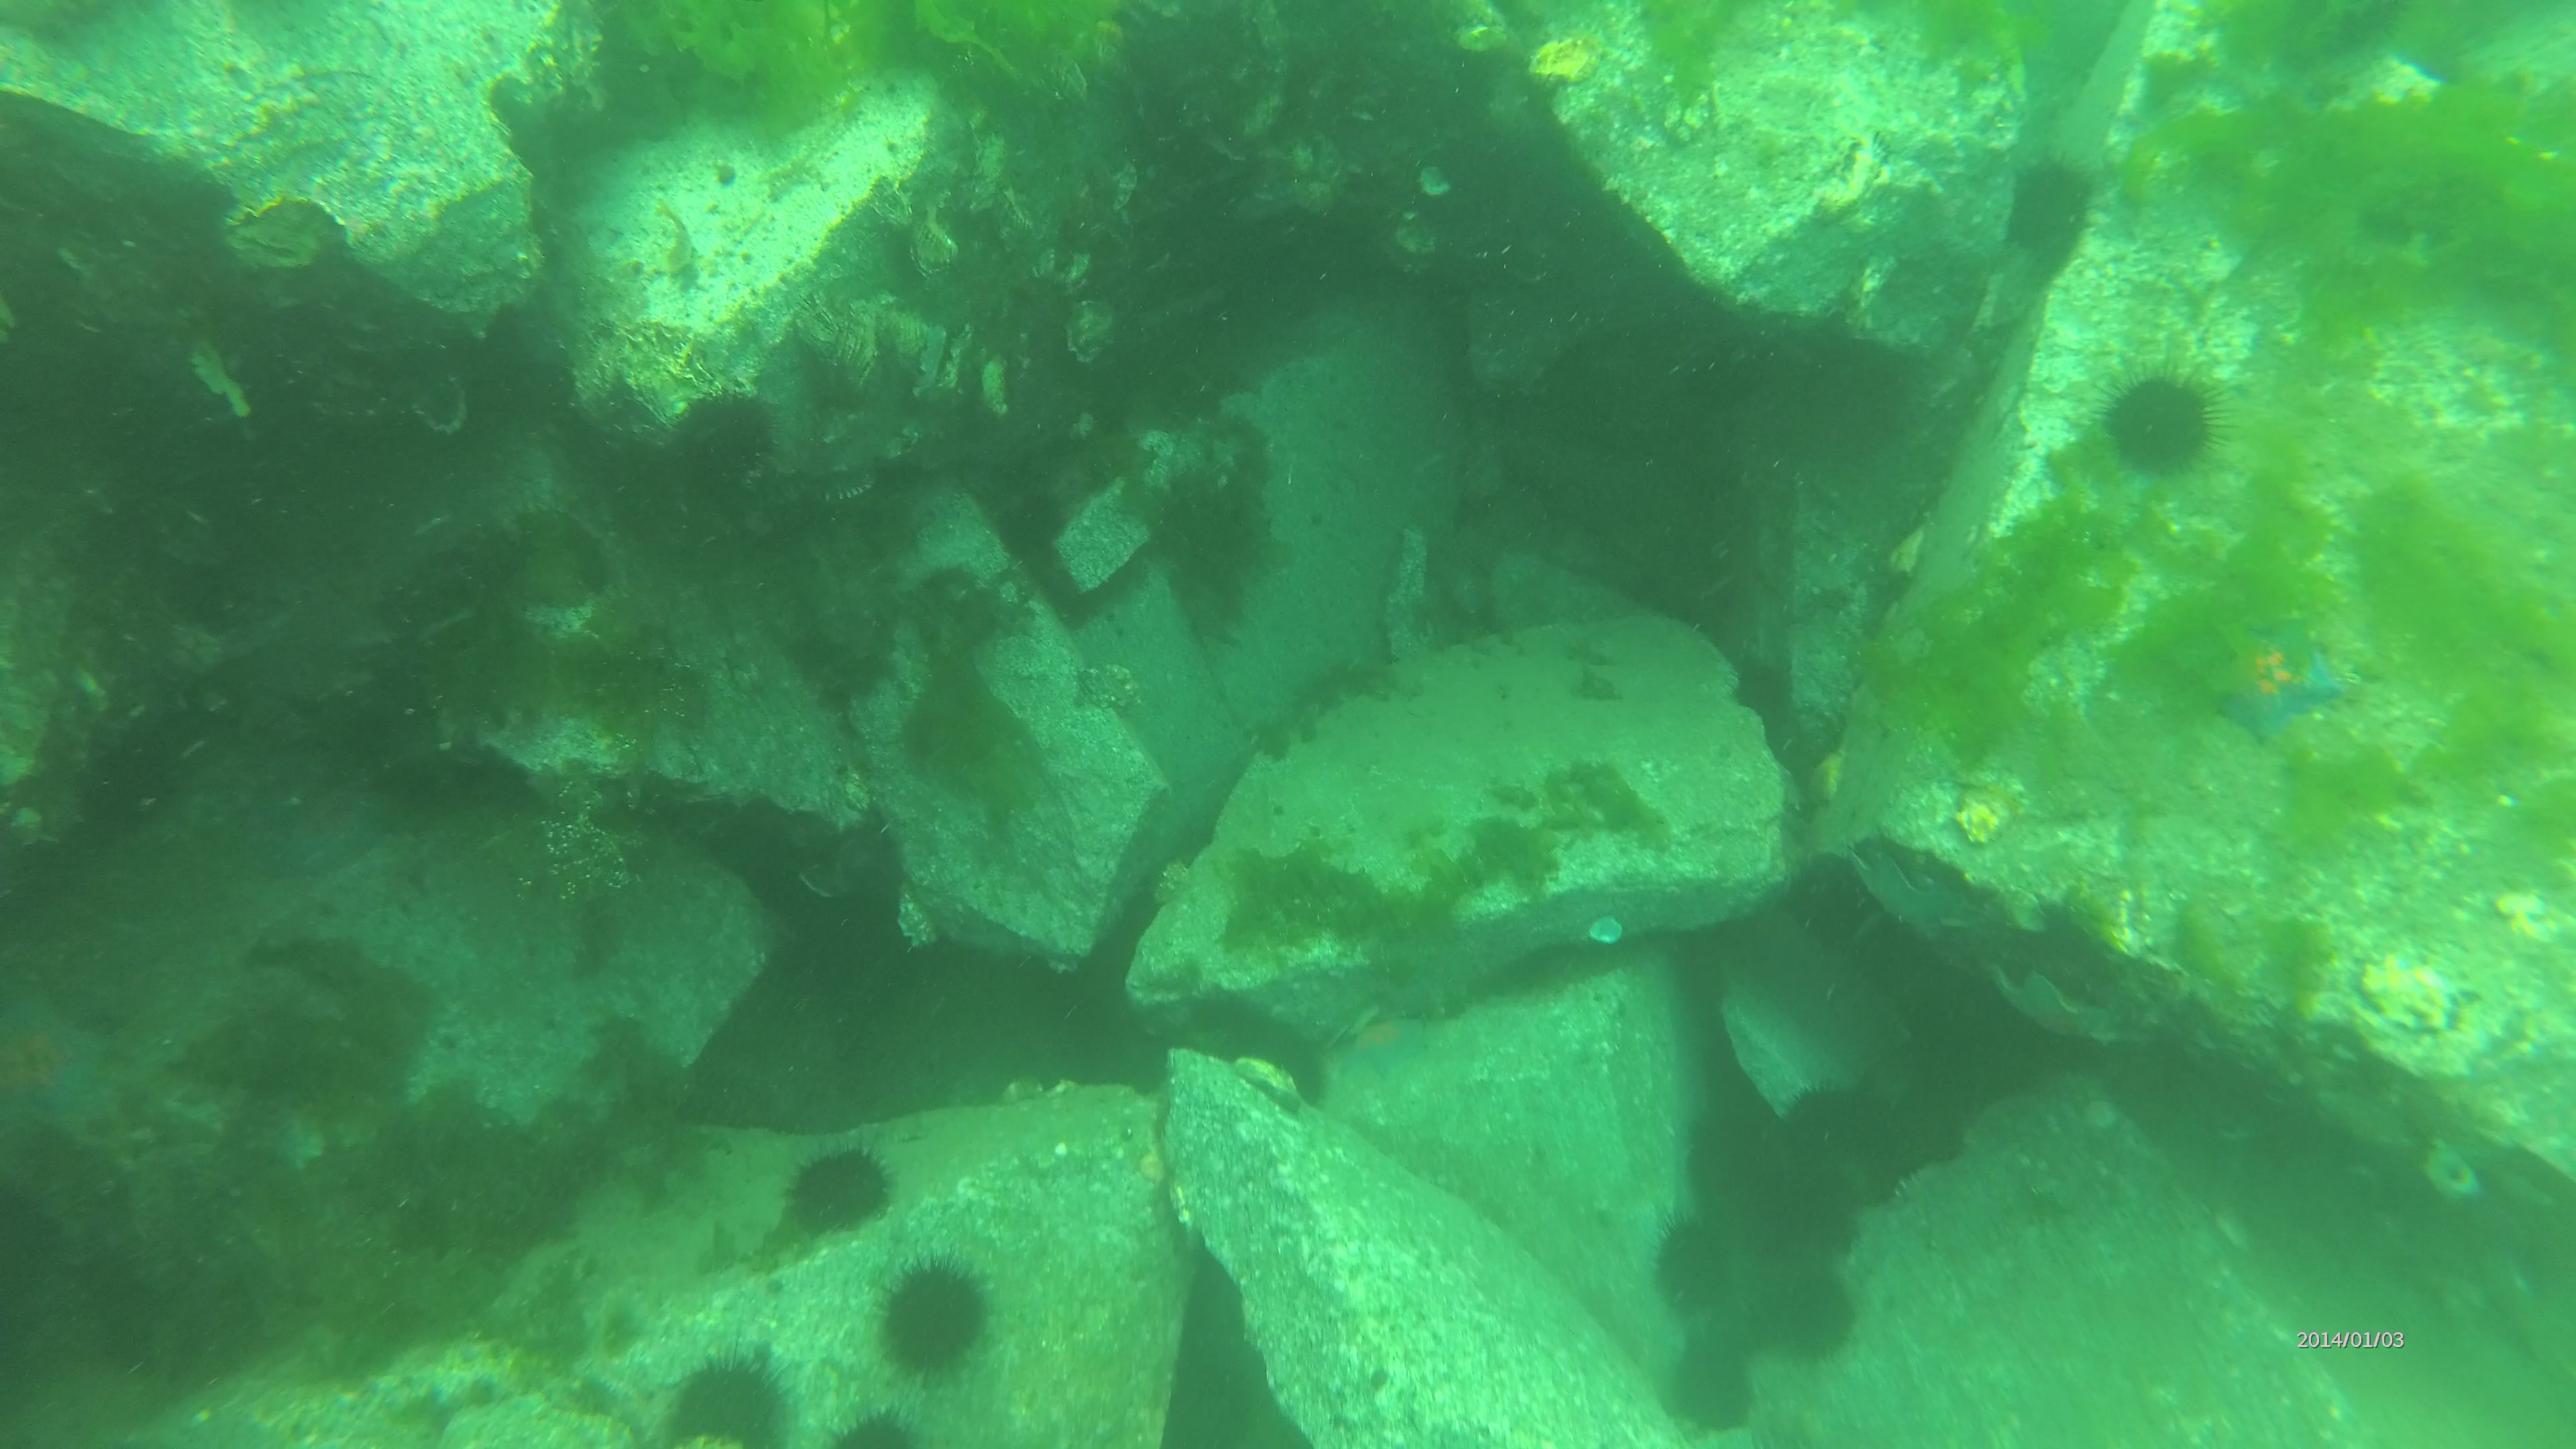echinus: (2097, 359, 2233, 483), (876, 1249, 998, 1385), (669, 1330, 796, 1449), (667, 389, 787, 497), (76, 741, 191, 842), (786, 1139, 897, 1240), (2006, 154, 2095, 267), (1651, 1210, 1727, 1316), (1775, 1269, 1859, 1362), (1775, 1076, 1858, 1164), (1674, 1339, 1753, 1431), (824, 1407, 925, 1449), (1732, 660, 1790, 725)
holothurian: (1746, 1408, 1835, 1449)
scallop: (1233, 1056, 1302, 1109)
starfish: (2217, 616, 2344, 748), (7, 989, 115, 1129), (1980, 961, 2114, 1044), (1844, 849, 1960, 943), (1341, 1019, 1426, 1083), (1808, 748, 1849, 803)
